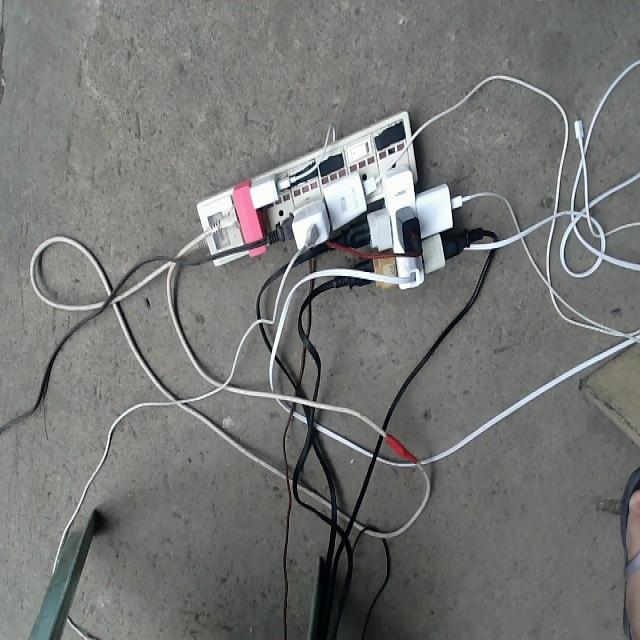-: (194, 108, 466, 292)
